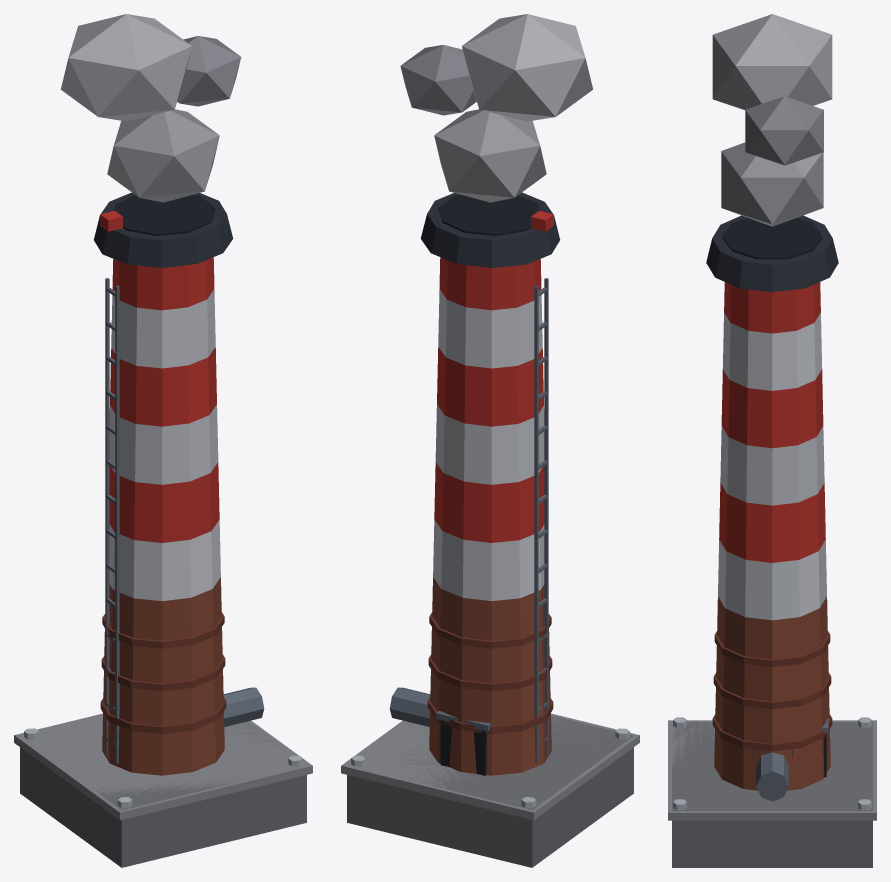
Rendered from Decor_RobotFactory_Smokestack.fbx.
3 views of the same model, side by side, from view 1: azimuth 30°, elevation 25°; view 2: azimuth 150°, elevation 25°; view 3: azimuth 270°, elevation 25° (orthographic).
Visible parts, largest first — view 1: Smokestack_Body; view 2: Smokestack_Body; view 3: Smokestack_Body.
Part boxes in pixels (x1,y1,x2,y2): Smokestack_Body: (14,14,312,867); Smokestack_Body: (341,14,639,867); Smokestack_Body: (668,14,876,867).
Size of the model in its own units: 10.5 by 41.8 by 10.
